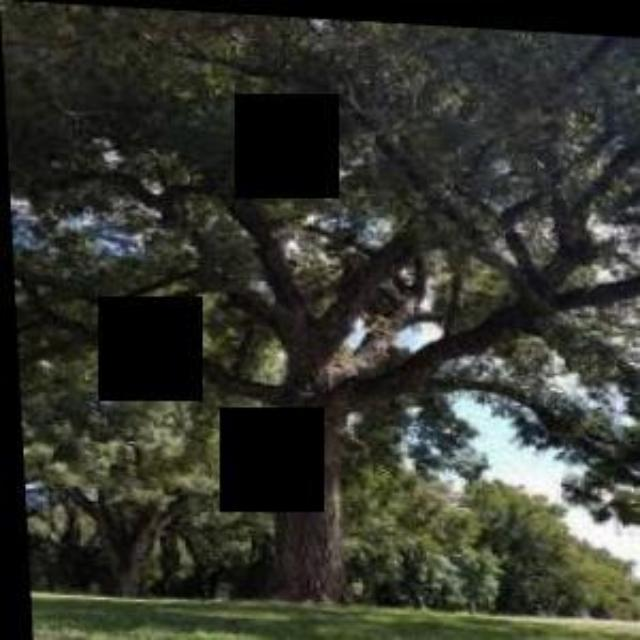tree: (5, 2, 638, 616)
